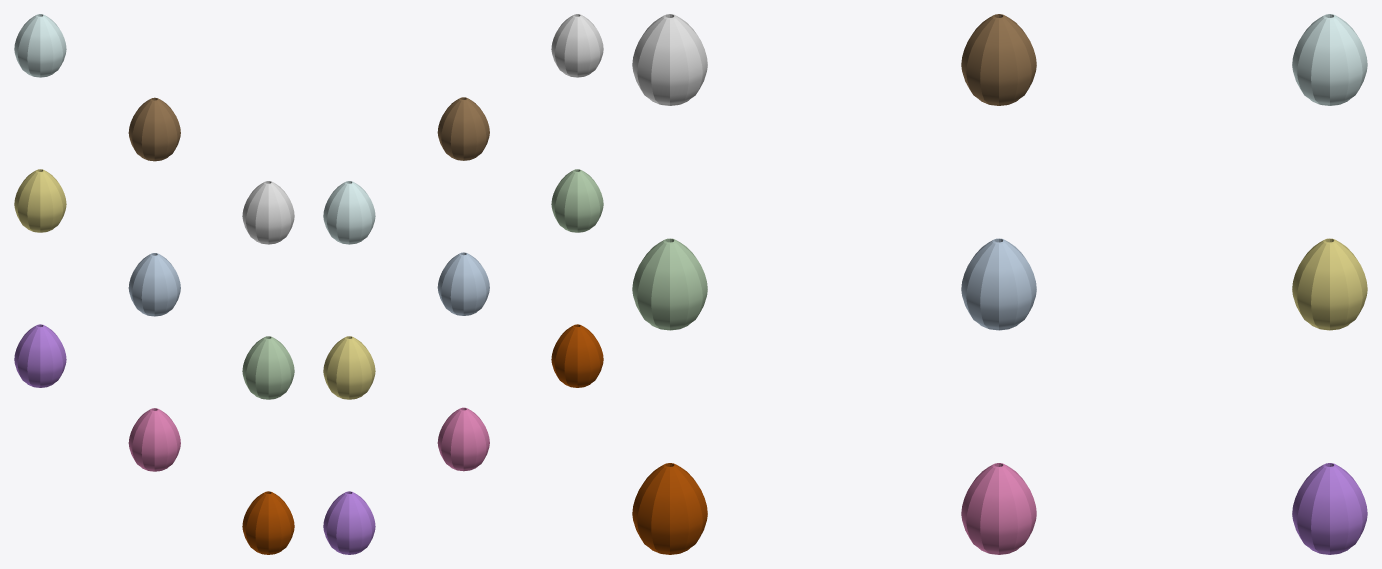
The model's file is vase_5.fbx.
The picture shows the model from 3 angles, left to right: view 1: azimuth 30°, elevation 25°; view 2: azimuth 150°, elevation 25°; view 3: azimuth 270°, elevation 25°; orthographic projection. The views are drawn at different scales.
Parts seen in each view (by area): view 1: pCylinder191, pCylinder209, pCylinder218, pCylinder236, pCylinder227, pCylinder200, pCylinder164, pCylinder182, pCylinder173; view 2: pCylinder191, pCylinder209, pCylinder218, pCylinder236, pCylinder200, pCylinder227, pCylinder164, pCylinder173, pCylinder182; view 3: pCylinder164, pCylinder191, pCylinder218, pCylinder200, pCylinder209, pCylinder227, pCylinder236, pCylinder173, pCylinder182.
Part boxes in pixels (x1,y1,x2,y2): pCylinder191: [242, 336, 294, 399]; pCylinder209: [242, 491, 294, 554]; pCylinder218: [14, 169, 66, 232]; pCylinder236: [14, 324, 66, 387]; pCylinder227: [14, 14, 66, 77]; pCylinder200: [242, 181, 294, 244]; pCylinder164: [128, 253, 180, 316]; pCylinder182: [128, 408, 180, 471]; pCylinder173: [128, 97, 180, 161]; pCylinder191: [551, 169, 603, 232]; pCylinder209: [551, 324, 603, 387]; pCylinder218: [323, 336, 375, 399]; pCylinder236: [323, 491, 375, 554]; pCylinder200: [551, 14, 603, 77]; pCylinder227: [323, 181, 375, 244]; pCylinder164: [437, 252, 489, 315]; pCylinder173: [437, 97, 489, 160]; pCylinder182: [437, 407, 489, 471]; pCylinder164: [961, 238, 1036, 330]; pCylinder191: [632, 238, 707, 330]; pCylinder218: [1292, 238, 1367, 330]; pCylinder200: [632, 14, 707, 105]; pCylinder209: [632, 463, 707, 554]; pCylinder227: [1292, 14, 1367, 105]; pCylinder236: [1292, 463, 1367, 554]; pCylinder173: [961, 14, 1036, 105]; pCylinder182: [961, 463, 1036, 554].
Size of the model in its own units: 2.75 by 21.32 by 26.72.
